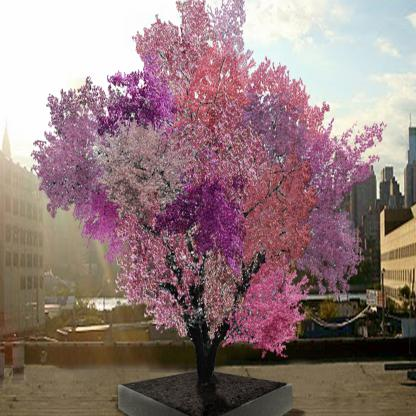Tree: (30, 1, 388, 380)
